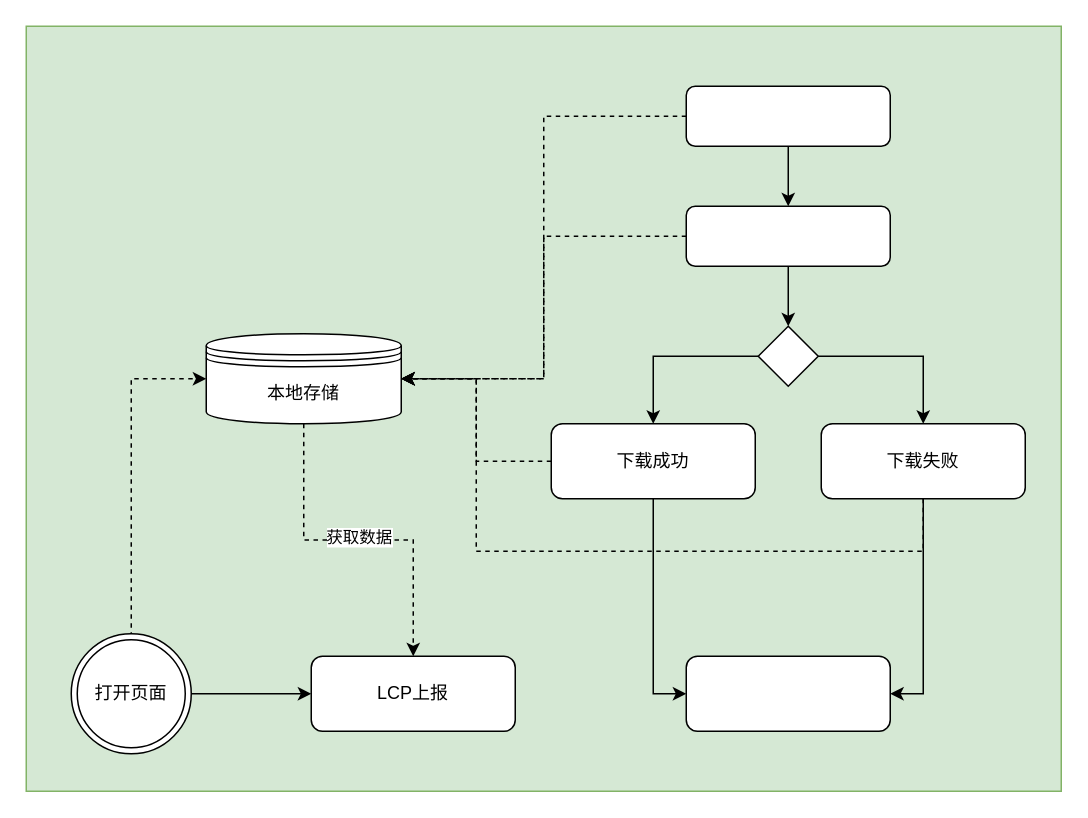
Image size: 1088x818. Some labels were removed from this diagram. Here are the shapes that lost their labels. From the top down, the centre of each, then its label:
pixel 787 115: 进入下载队列
pixel 787 235: 开始下载
pixel 787 693: 上报数据
